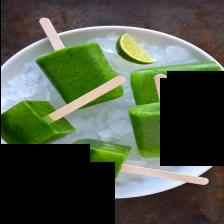green: (35, 42, 116, 104), (130, 61, 223, 107), (128, 101, 200, 158), (56, 139, 130, 193), (0, 101, 74, 151), (78, 86, 123, 109)
